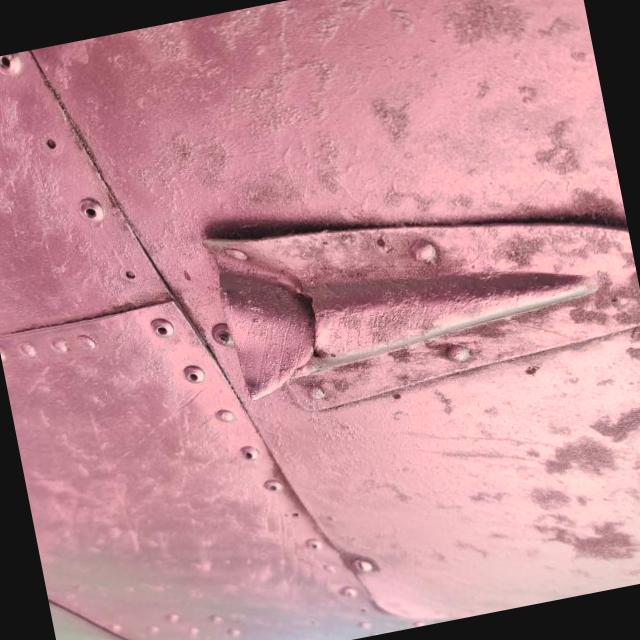Missing Fastener: (30, 115, 78, 168), (111, 263, 148, 292), (285, 507, 311, 528)
